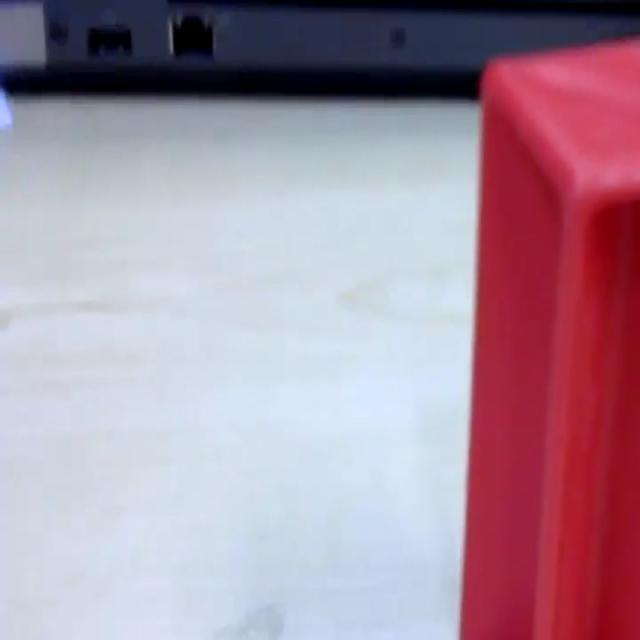red_block: (458, 33, 638, 636)
